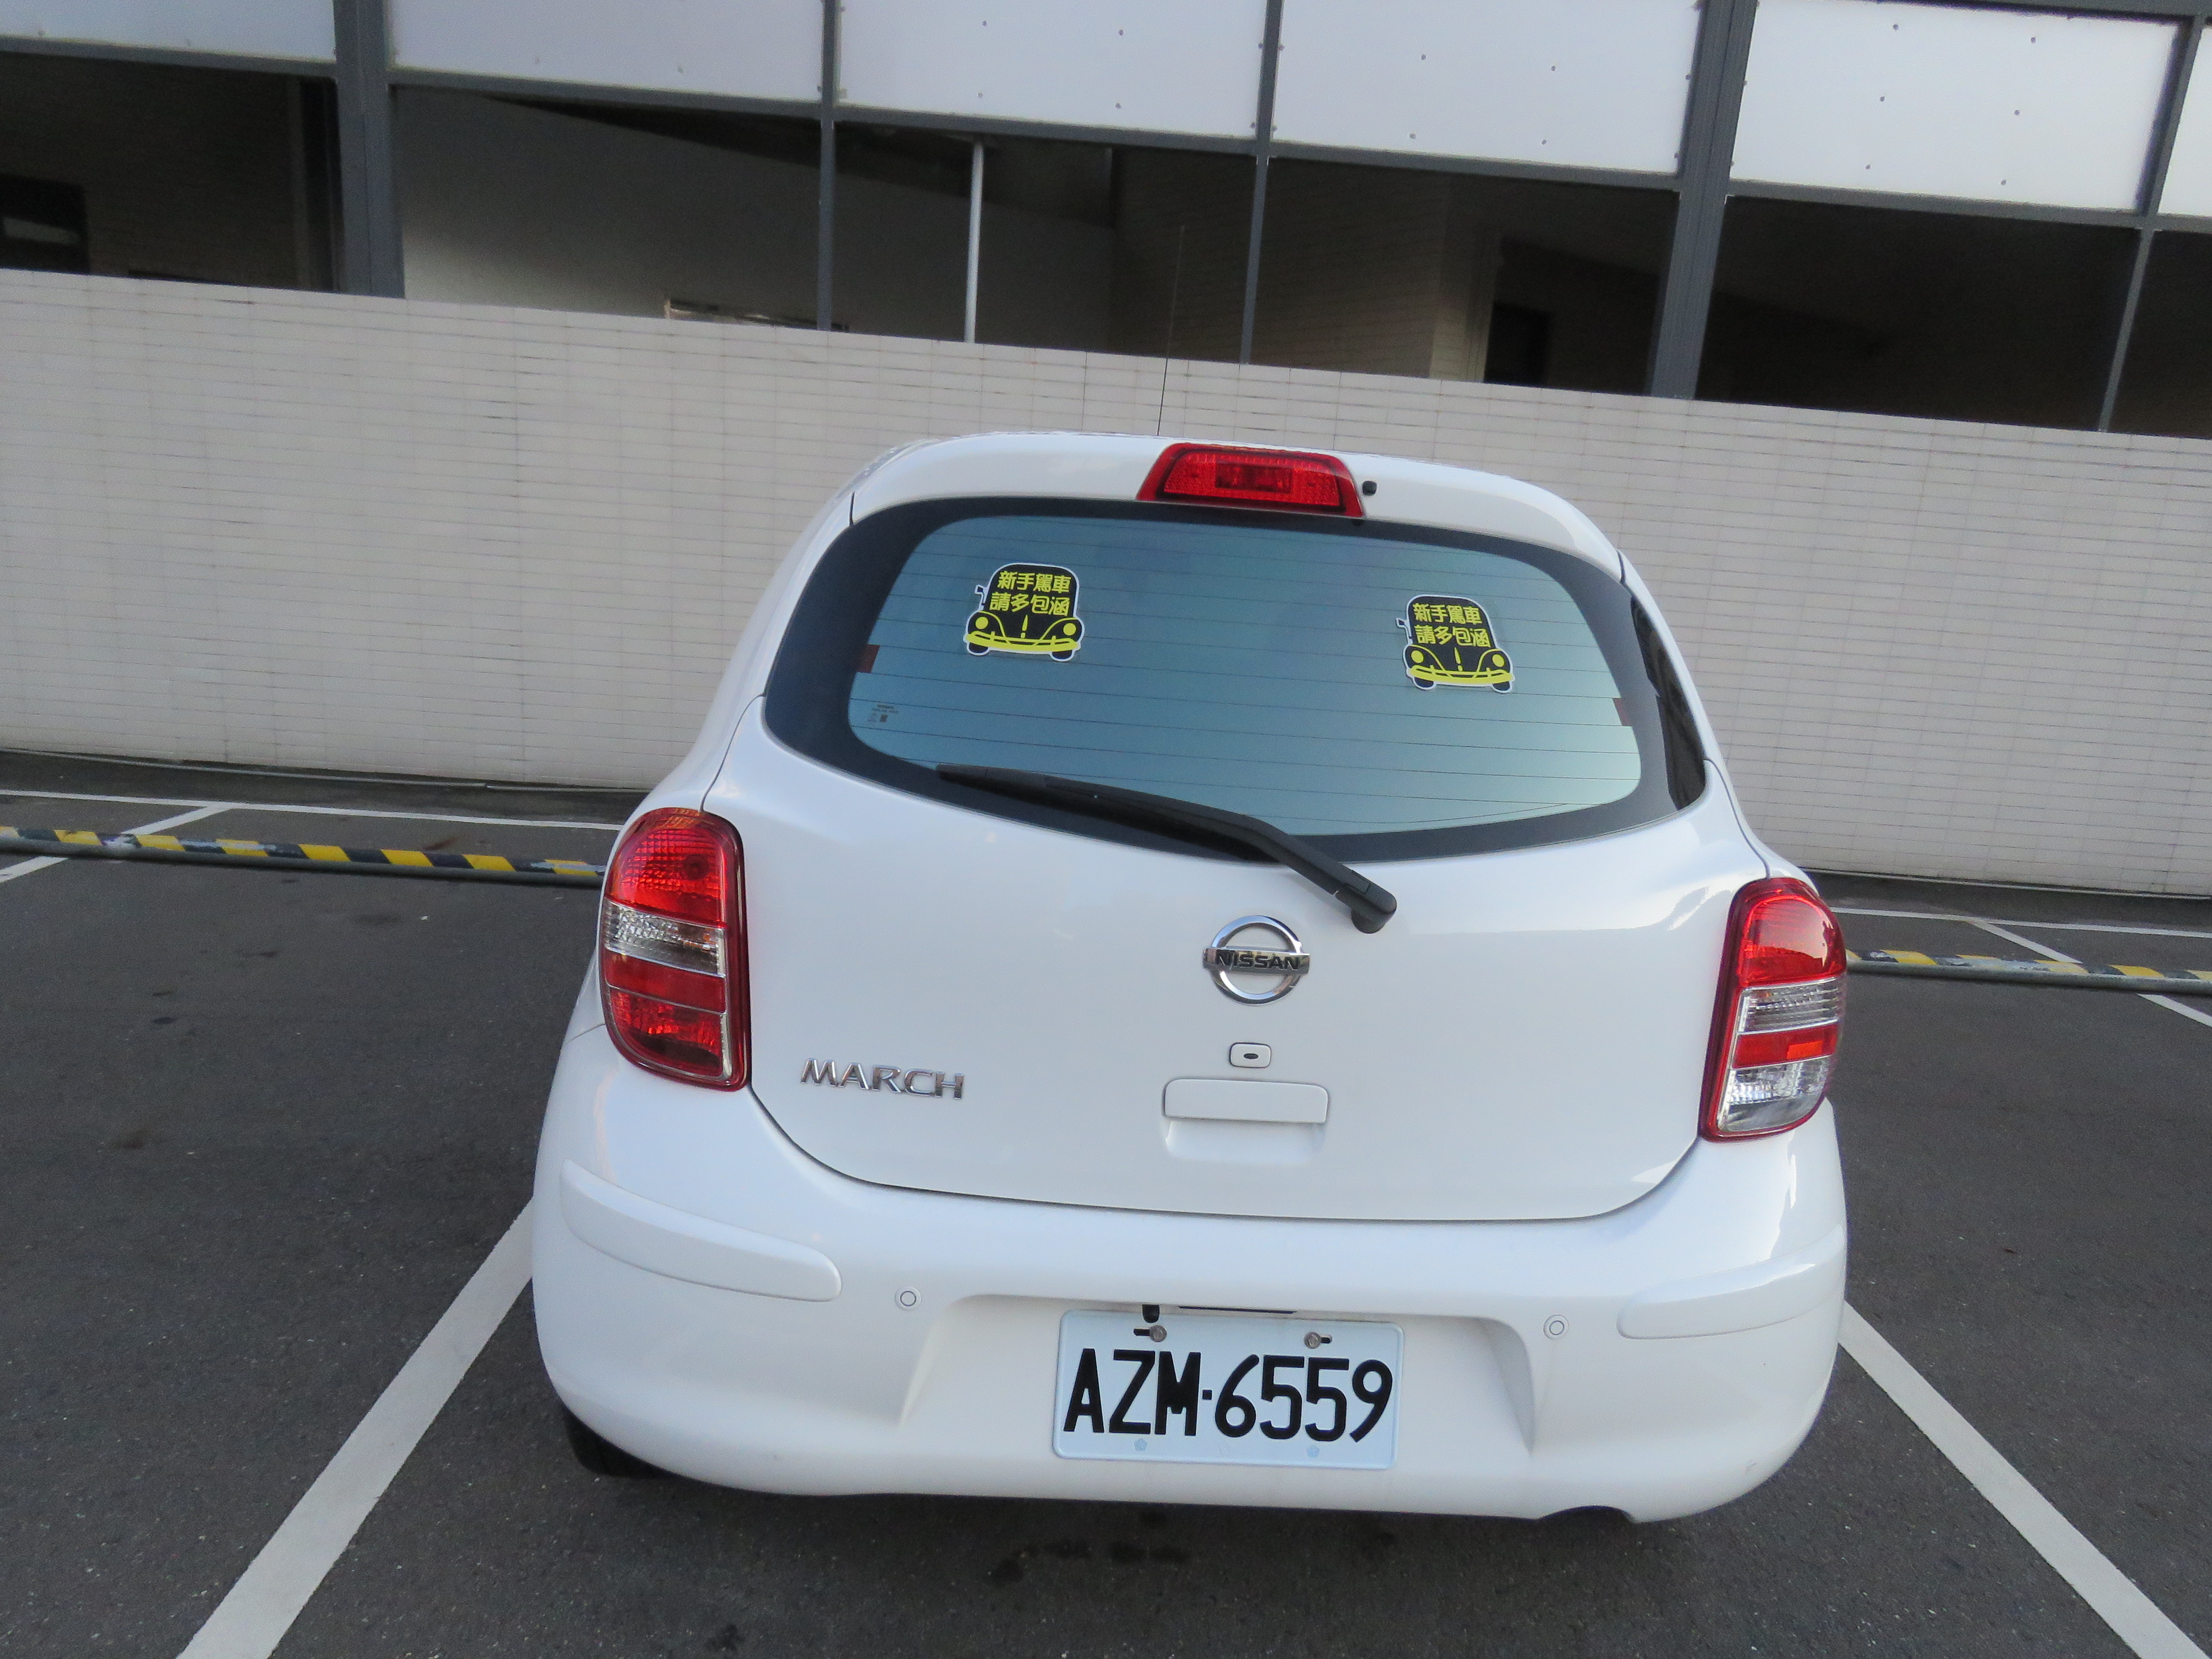car: (529, 427, 1857, 1546)
car_card: (1050, 1316, 1404, 1467)
